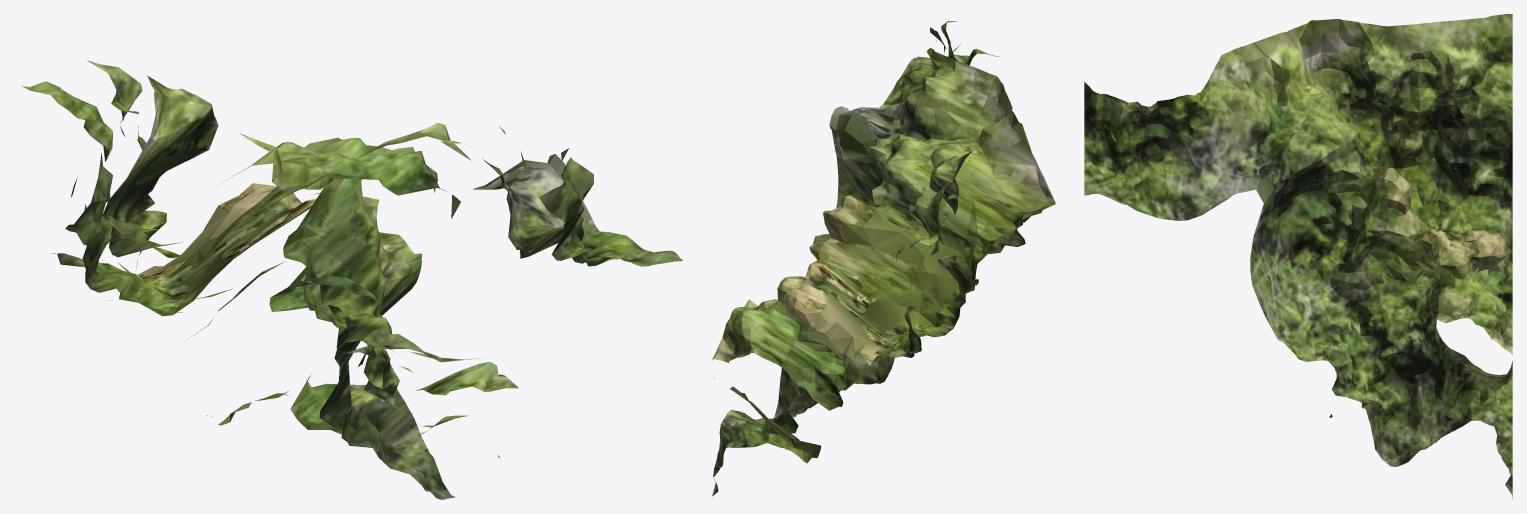
3 renders of one model, left to right at view 1: azimuth 30°, elevation 25°; view 2: azimuth 150°, elevation 25°; view 3: azimuth 270°, elevation 25°, orthographic. The views are drawn at different scales.
Bounding box in the file's own units: 18.5 × 24.96 × 26.11.
Materials: 4 (4 with a texture image).
